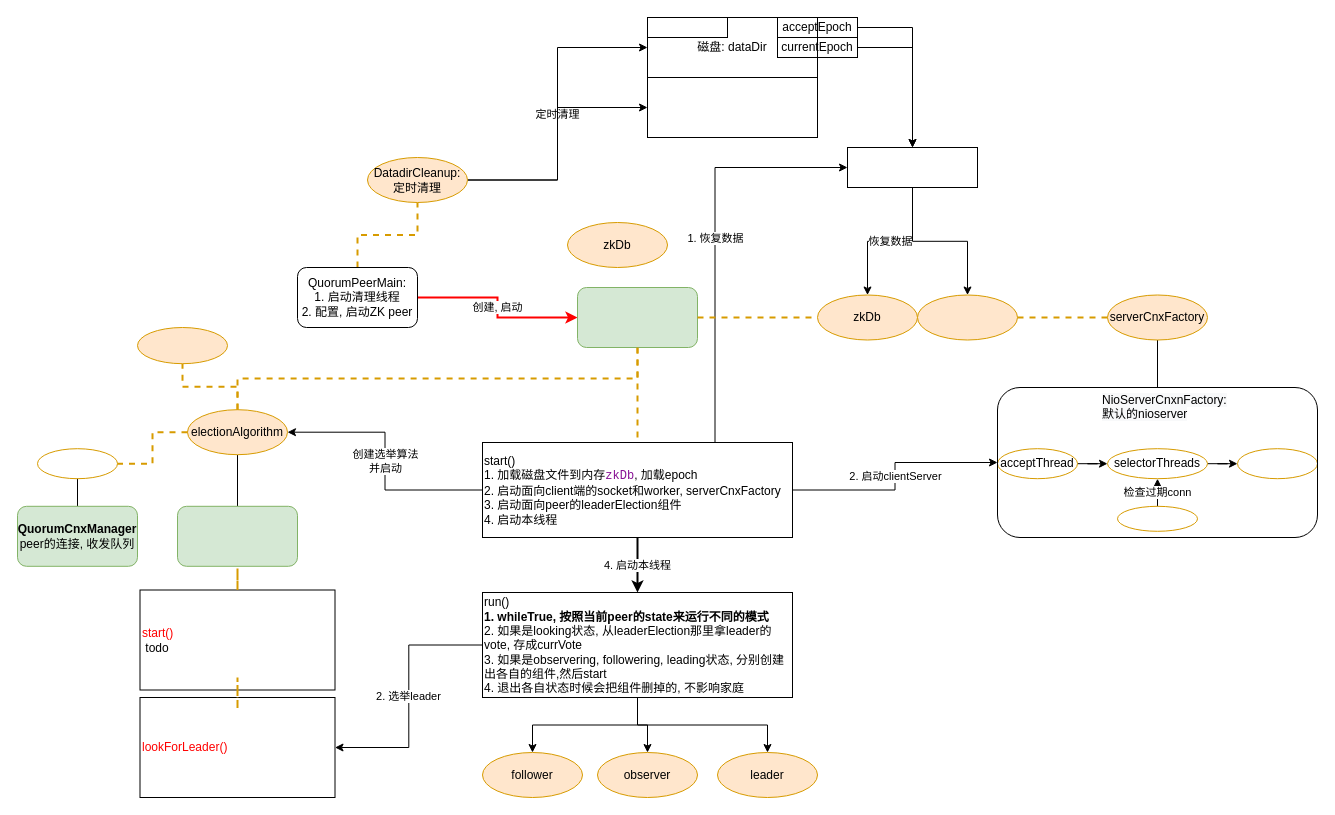
Image size: 1335x815. Some labels were removed from this diagram. Here are the shapes that lost their labels. From the top down, the centre of each, then its label:
point (687, 27): snapshot
point (732, 107): 磁盘: dataLogDir
point (912, 167): loadDataBases: 启动peer时候恢复数据
point (637, 317): QuorumPeer: 线程, 一个zk服务
point (967, 317): currentEpoch acceptedEpoch
point (182, 345): currVote: leader
point (77, 463): quorumCnxMgr
point (1277, 463): workerPool
point (237, 535): FastLeaderElection leader选举
point (1157, 518): exporerThread
